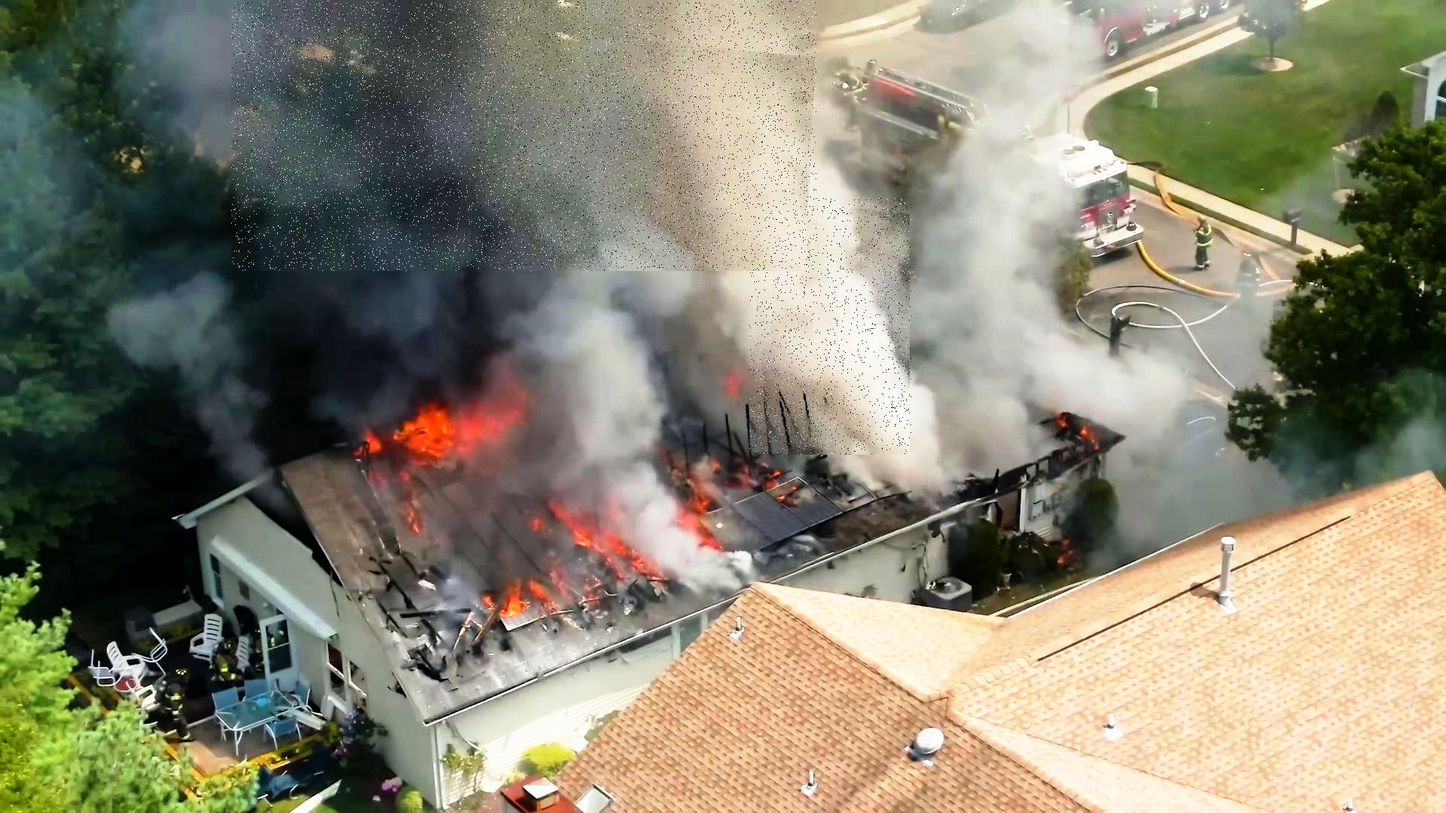smoke: (232, 1, 817, 271), (750, 198, 912, 455)
